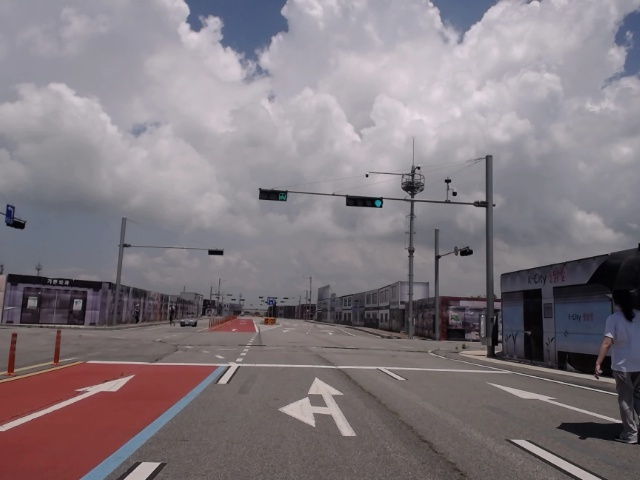straight_green_4: (347, 196, 385, 210)
